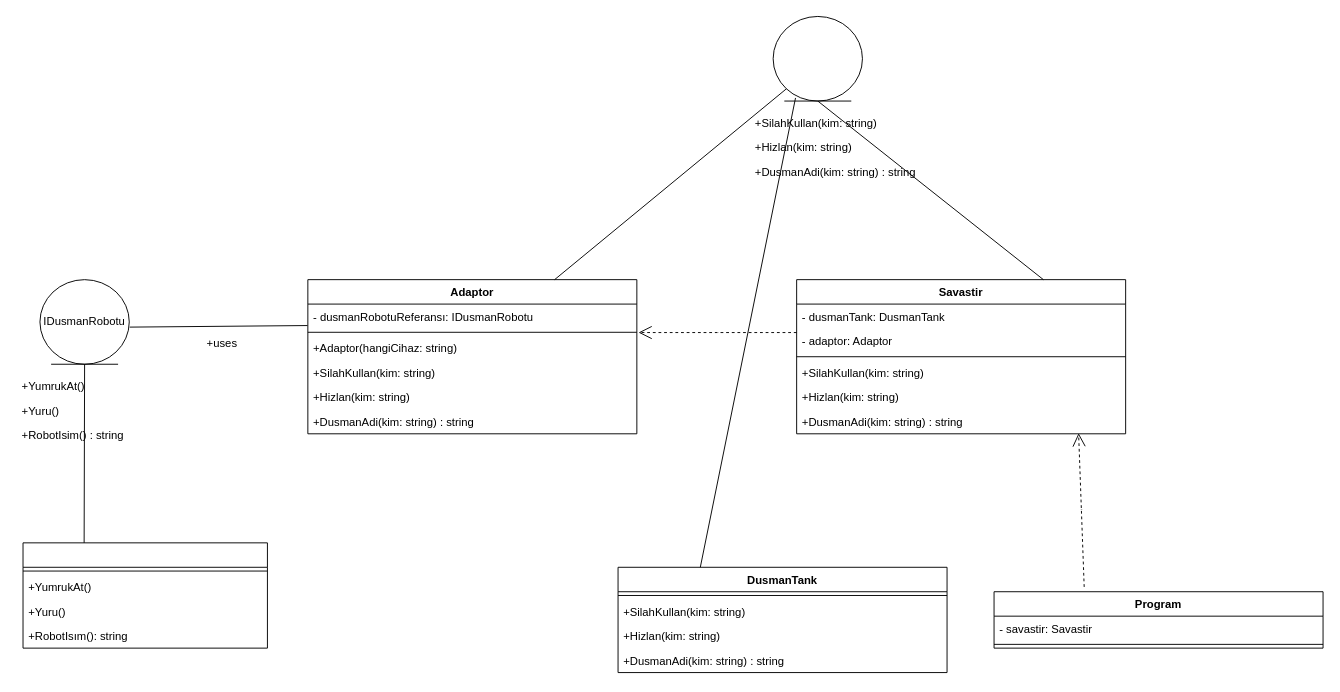
The diagram is 1340 pixels wide and 692 high, and some of its shapes have lost their labels. Each missing label, with the box of its shape:
DusmanRobotu: (22, 542, 267, 648)
IDusman: (772, 16, 862, 101)
